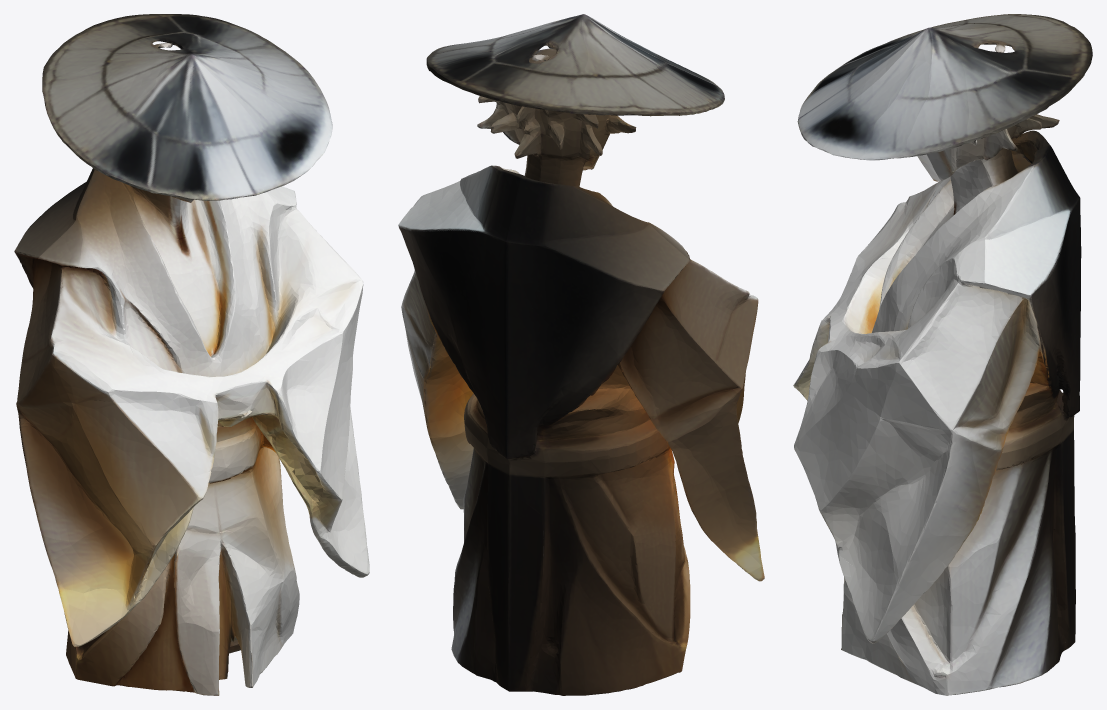
File: ronin_base.glb
3 views of the same model, side by side, from view 1: azimuth 30°, elevation 25°; view 2: azimuth 150°, elevation 25°; view 3: azimuth 270°, elevation 25° (orthographic). The views are drawn at different scales.
Visible parts, largest first — view 1: geometry_0; view 2: geometry_0; view 3: geometry_0.
Boxes of the visible parts, x1=… form: geometry_0: x1=14, y1=14, x2=369, y2=695; geometry_0: x1=398, y1=14, x2=764, y2=695; geometry_0: x1=793, y1=14, x2=1092, y2=695.
Size of the model in its own units: 0.5719 by 1 by 0.4423.
1 material, 1 textured.
